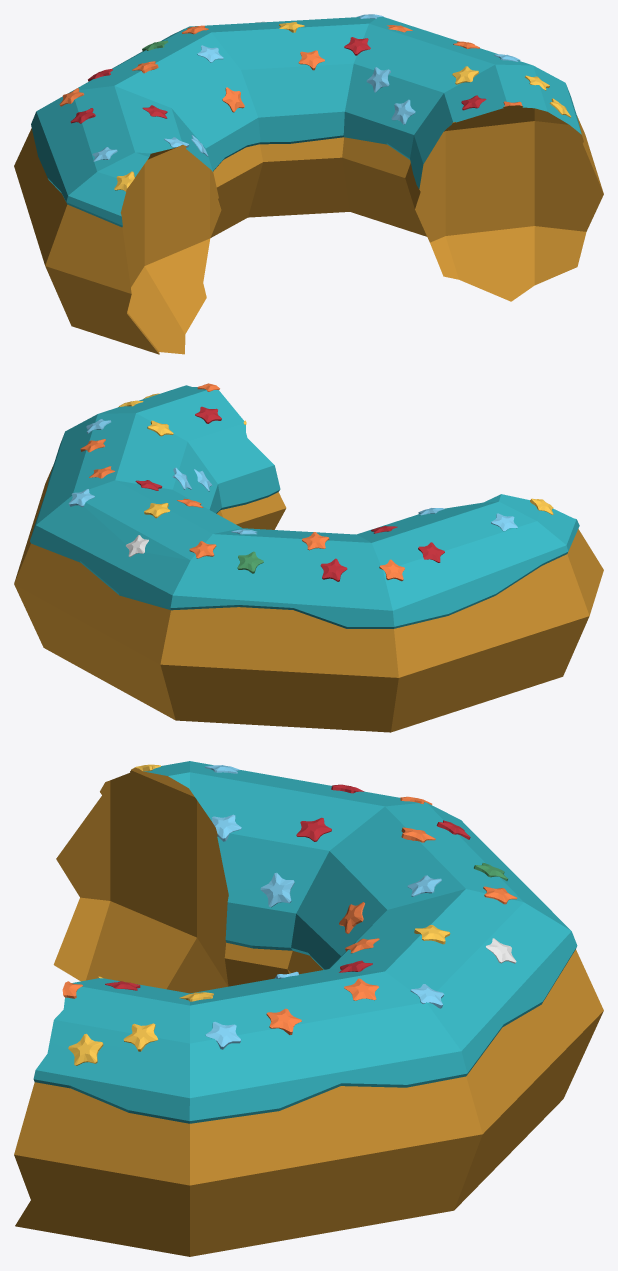
File: DonutState3.fbx
3 views of the same model, one above another, from view 1: azimuth 30°, elevation 25°; view 2: azimuth 150°, elevation 25°; view 3: azimuth 270°, elevation 25° (orthographic). The views are drawn at different scales.
Parts seen in each view (by area): view 1: DonutState3; view 2: DonutState3; view 3: DonutState3.
Boxes of the visible parts, box(x1,y1,x2,y2) form: DonutState3: box(14, 14, 603, 354); DonutState3: box(14, 383, 603, 732); DonutState3: box(14, 761, 603, 1256).
Bounding box in the file's own units: 120 × 40.23 × 85.48.
